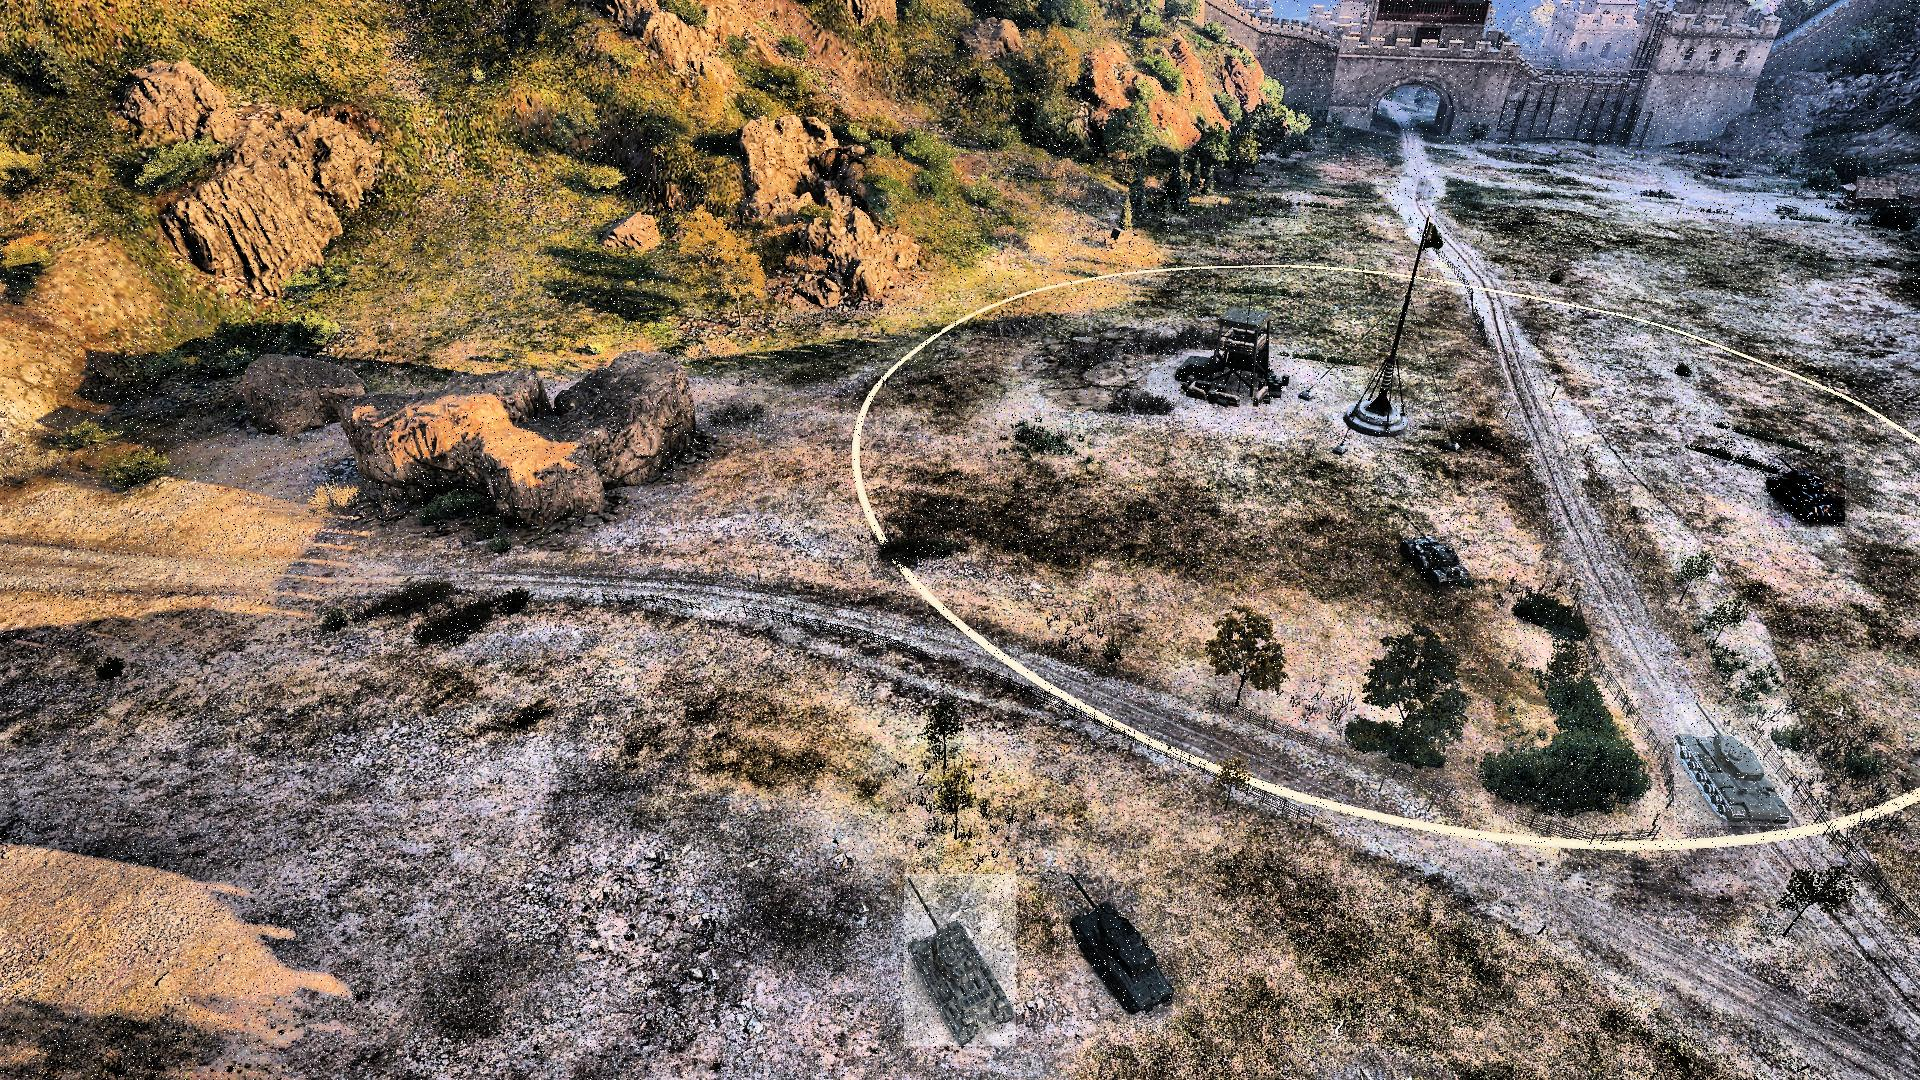military-vehicle: (905, 874, 1017, 1047), (1675, 705, 1792, 827), (1067, 873, 1170, 1010), (1768, 454, 1845, 527), (1400, 508, 1466, 588)
